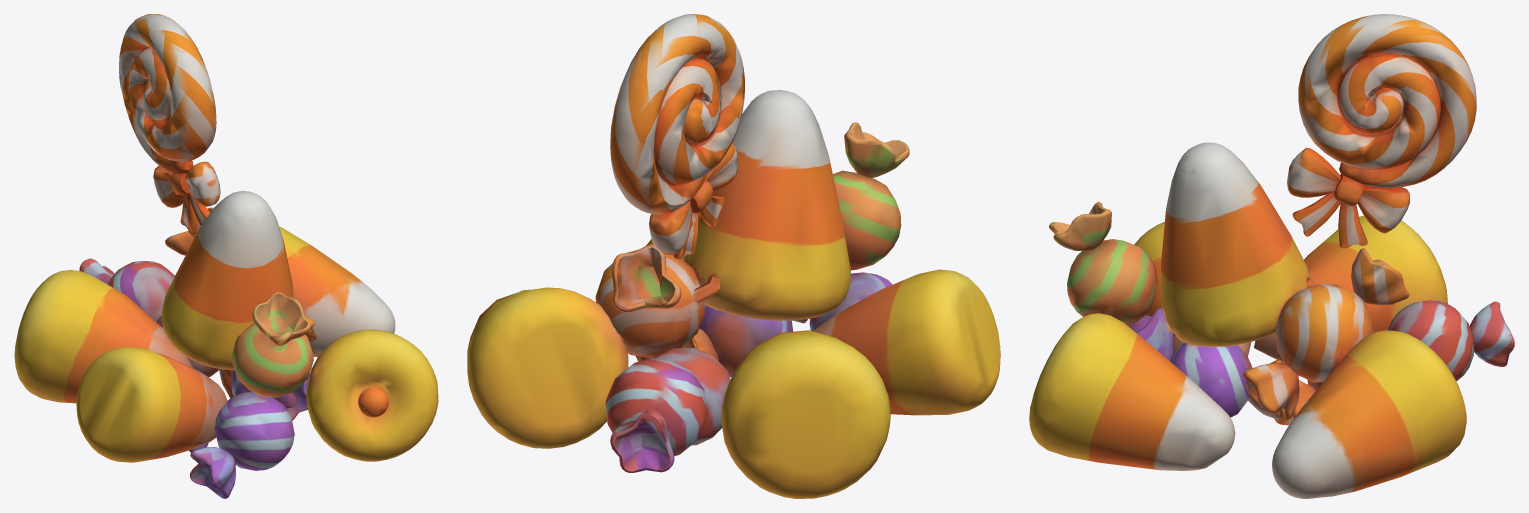
The model's file is H7_CandyCornPile_LOD0.fbx.
The picture shows the model from 3 angles, left to right: view 1: azimuth 30°, elevation 25°; view 2: azimuth 150°, elevation 25°; view 3: azimuth 270°, elevation 25°; orthographic projection. The views are drawn at different scales.
Visible parts, largest first — view 1: H7_CandyCornPile_LOD0; view 2: H7_CandyCornPile_LOD0; view 3: H7_CandyCornPile_LOD0.
Boxes of the visible parts, box(x1,y1,x2,y2) form: H7_CandyCornPile_LOD0: box(14, 14, 438, 498); H7_CandyCornPile_LOD0: box(467, 14, 1000, 498); H7_CandyCornPile_LOD0: box(1029, 14, 1514, 498).
Bounding box in the file's own units: 0.3164 × 0.32 × 0.3375.
Materials: 1 (1 with a texture image).
